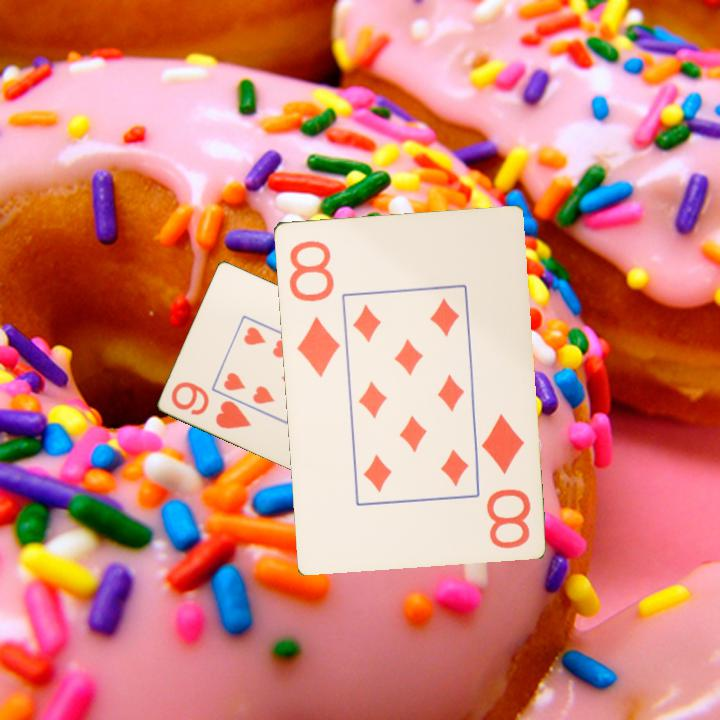8d: (285, 236, 342, 380), (477, 410, 533, 551)
9h: (168, 378, 254, 432)
